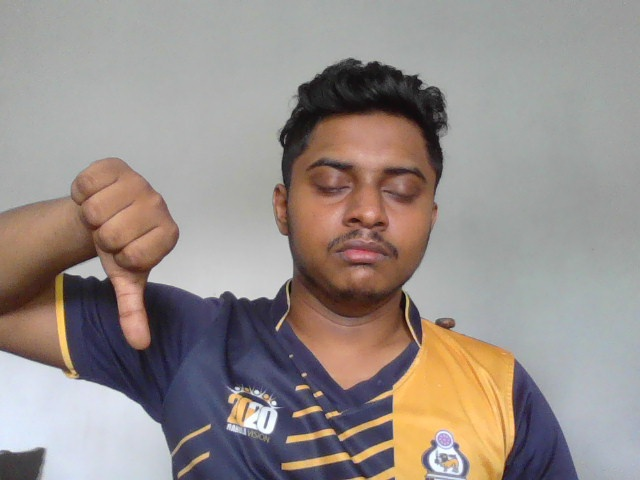Disagree: (70, 156, 182, 352)
